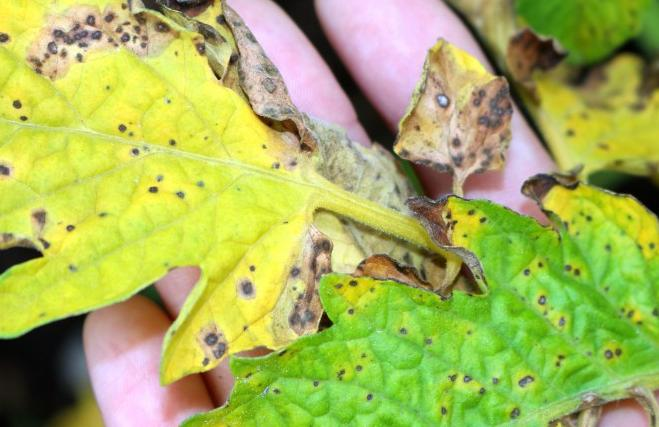Tomato Septoria leaf spot: (0, 0, 345, 346), (120, 206, 647, 427)
